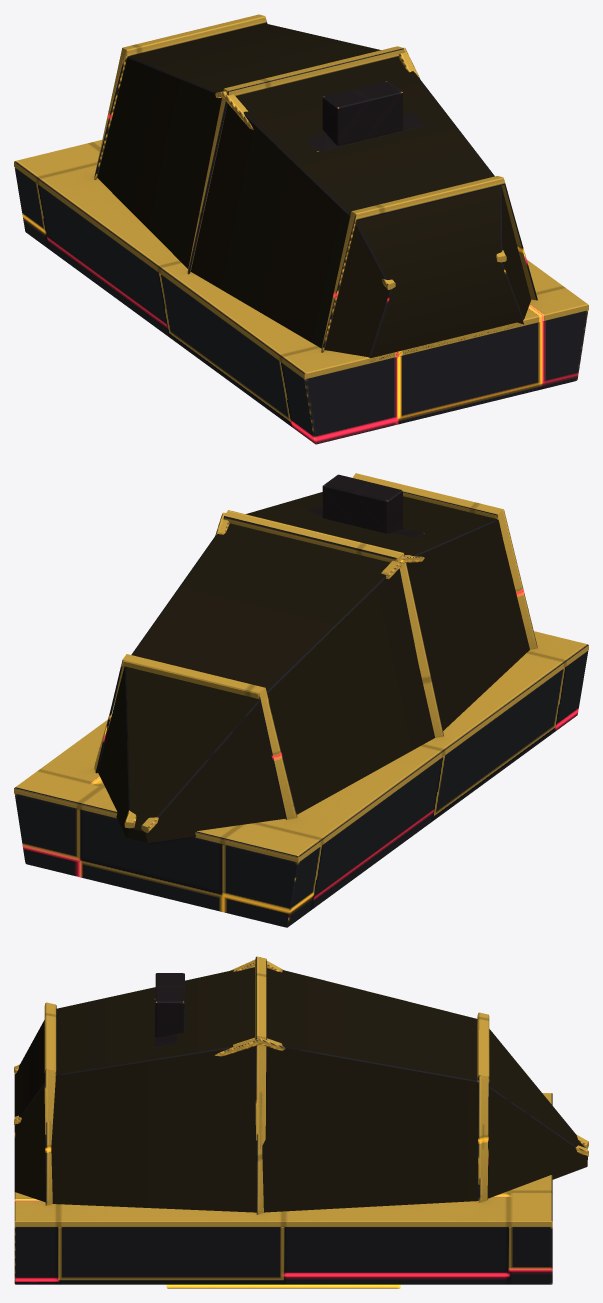
File: cabina_caza_t4.fbx
3 views of the same model, one above another, from view 1: azimuth 30°, elevation 25°; view 2: azimuth 150°, elevation 25°; view 3: azimuth 270°, elevation 25° (orthographic). The views are drawn at different scales.
Visible parts, largest first — view 1: cabina_caza_t4_cristal, cabina_caza_t4; view 2: cabina_caza_t4_cristal, cabina_caza_t4; view 3: cabina_caza_t4_cristal, cabina_caza_t4.
Part boxes in pixels (<box>): cabina_caza_t4_cristal: <box>97,23,530,361</box>; cabina_caza_t4: <box>14,14,588,444</box>; cabina_caza_t4_cristal: <box>98,492,529,843</box>; cabina_caza_t4: <box>14,473,588,927</box>; cabina_caza_t4_cristal: <box>14,967,587,1212</box>; cabina_caza_t4: <box>14,956,588,1288</box>.
Bounding box in the file's own units: 2.6 × 2.44 × 4.92.
